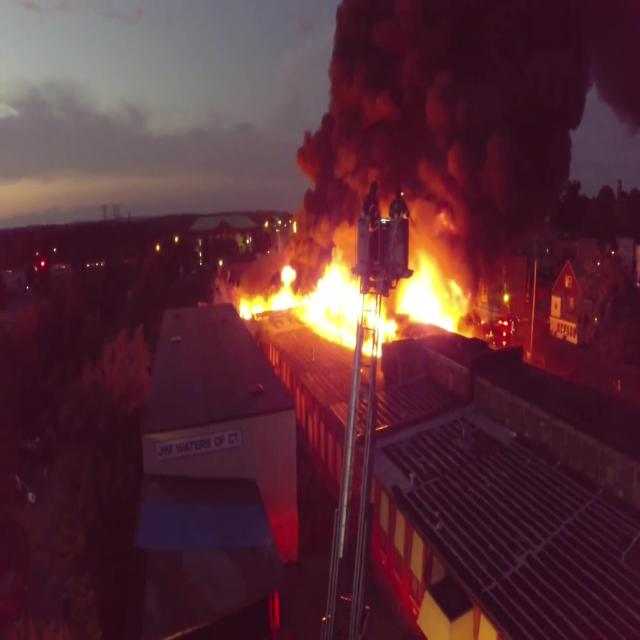Fire: (232, 246, 466, 364)
Smoke: (288, 0, 639, 302)
